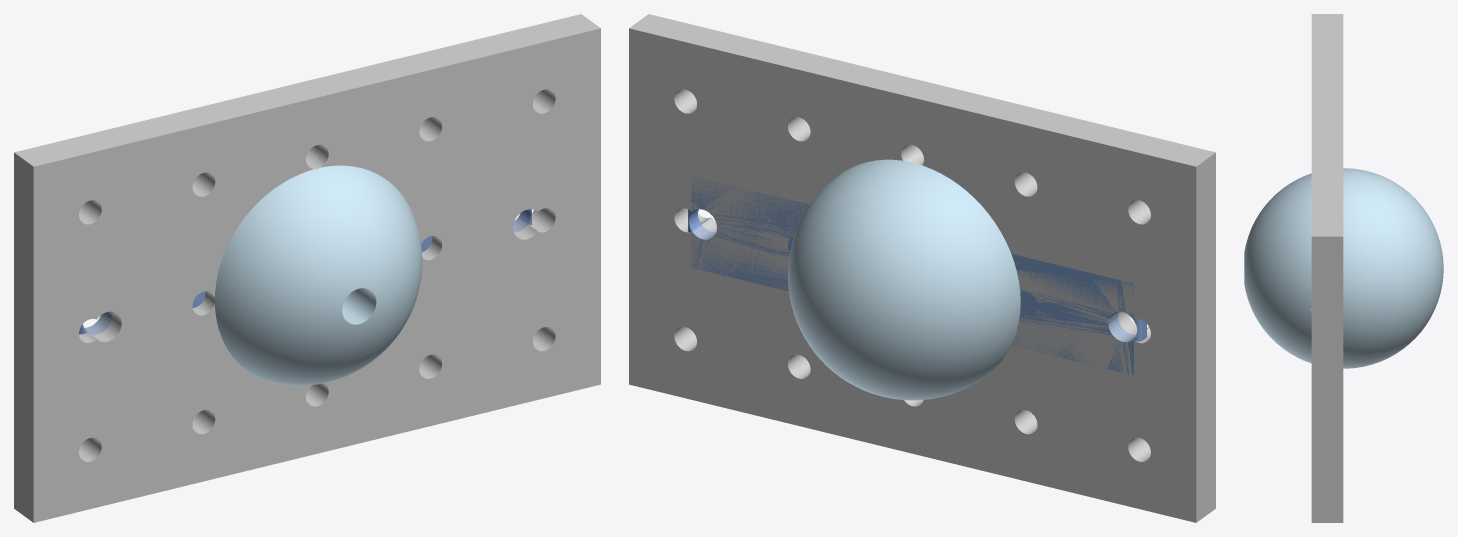
3 views of the same model, side by side, from view 1: azimuth 30°, elevation 25°; view 2: azimuth 150°, elevation 25°; view 3: azimuth 270°, elevation 25° (orthographic). The views are drawn at different scales.
Visible parts, largest first — view 1: Part 2, Part 1, Part 3; view 2: Part 2, Part 1, Part 3; view 3: Part 1, Part 2.
Part boxes in pixels (<box>): Part 2: <box>14,14,600,522</box>; Part 1: <box>202,150,422,385</box>; Part 3: <box>79,209,531,334</box>; Part 2: <box>629,14,1215,522</box>; Part 1: <box>788,153,1020,400</box>; Part 3: <box>688,177,1146,375</box>; Part 1: <box>1244,168,1443,368</box>; Part 2: <box>1311,14,1343,522</box>.
Bounding box in the file's own units: 0.2 × 0.12 × 0.0757.
